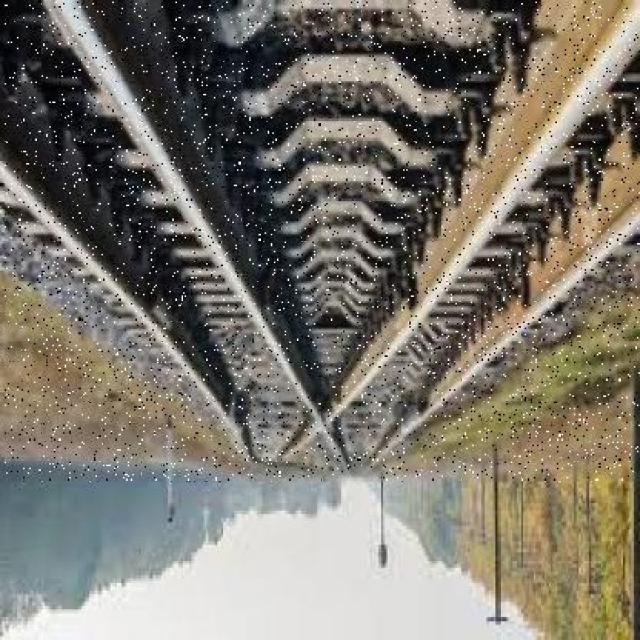rail: (6, 3, 640, 481)
